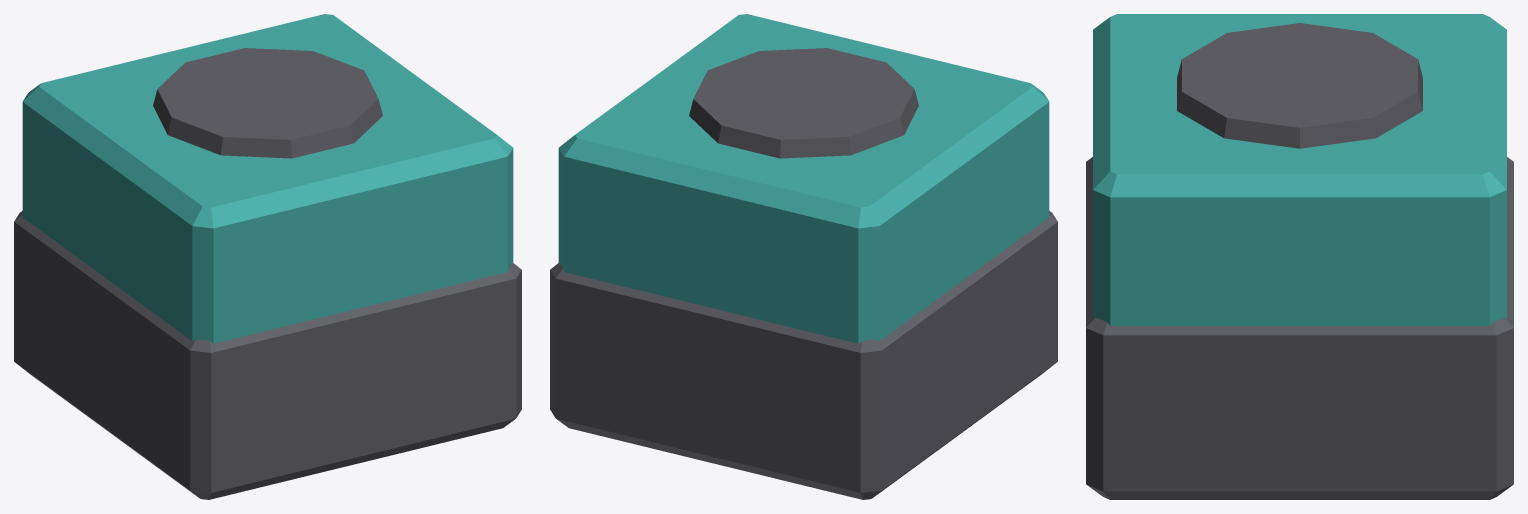
File: bowling-alley-and-pool-hall-chalk-cube-4e2cd4ca__33859.glb
3 renders of one model, left to right at view 1: azimuth 30°, elevation 25°; view 2: azimuth 150°, elevation 25°; view 3: azimuth 270°, elevation 25°, orthographic. The views are drawn at different scales.
Parts seen in each view (by area): view 1: chalk-cube; view 2: chalk-cube; view 3: chalk-cube.
Part boxes in pixels (bbox=[...]): chalk-cube: bbox=[14, 14, 521, 499]; chalk-cube: bbox=[550, 14, 1057, 499]; chalk-cube: bbox=[1086, 14, 1513, 499].
Size of the model in its own units: 0.0248 by 0.0218 by 0.0248.
